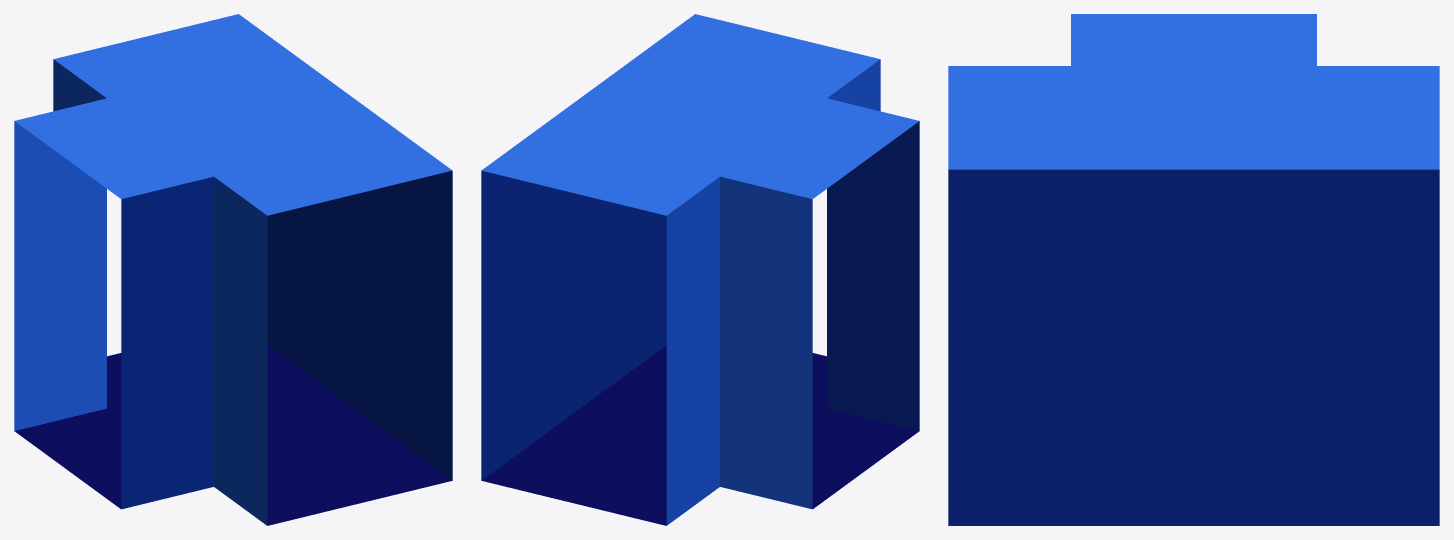
File: wall_t_down_left_up.glb
3 renders of one model, left to right at view 1: azimuth 30°, elevation 25°; view 2: azimuth 150°, elevation 25°; view 3: azimuth 270°, elevation 25°, orthographic. The views are drawn at different scales.
Visible parts, largest first — view 1: wall_t_down_left_up; view 2: wall_t_down_left_up; view 3: wall_t_down_left_up.
Part boxes in pixels (bbox=[...]): wall_t_down_left_up: bbox=[14, 14, 452, 525]; wall_t_down_left_up: bbox=[481, 14, 919, 525]; wall_t_down_left_up: bbox=[948, 14, 1439, 525].
Bounding box in the file's own units: 0.75 × 0.8 × 1.
